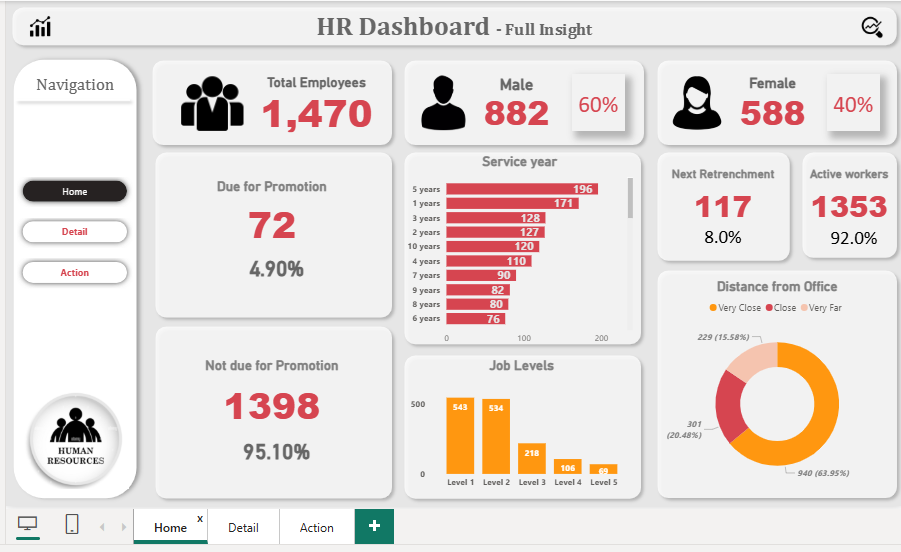

This screenshot's page, from the dashboard's own definition file:
{"tool":"powerbi","page":{"name":"Home","canvas":[1280,720],"ordinal":0},"visuals":[{"type":"shape","box":[0,72.3,197,647.7],"z":0},{"type":"shape","box":[204.1,455,355.7,263.6],"z":1000},{"type":"shape","box":[919.8,75.1,360,138.9],"z":2000},{"type":"card","title":"Not due for Promotion","fields":{"Values":["All Measures.Not due for Promotion"]},"box":[252.3,508,253.7,110.5],"z":3000},{"type":"card","fields":{"Values":["All Measures.% Not due"]},"box":[309,594.9,153.1,91.3],"z":4000},{"type":"shape","box":[204.1,206.9,355.7,253.7],"z":5000},{"type":"shape","box":[0,0,1279.8,72.3],"z":6000},{"type":"card","title":"Female","fields":{"Values":["All Measures.Female"]},"box":[1009.1,106.3,170.1,85],"z":7000},{"type":"card","title":"Due for Promotion","fields":{"Values":["All Measures.Due for promotion"]},"box":[252.3,252.3,253.7,106.3],"z":8000},{"type":"textbox","box":[0.2,8.5,1279.8,62.4],"z":9000},{"type":"image","box":[915.6,97.8,140.3,93.5],"z":10000},{"type":"card","fields":{"Values":["All Measures.% Due for promotion"]},"box":[309,335.9,153.1,87.9],"z":11000},{"type":"image","box":[24.1,15.6,48.2,41.1],"z":12000},{"type":"card","fields":{"Values":["All Measures.% female"]},"box":[1172.1,103.5,75.1,82.2],"z":13000},{"type":"image","box":[1211.8,17,48.2,41.1],"z":14000},{"type":"shape","box":[559.8,75.1,360,138.9],"z":15000},{"type":"card","title":"Male","fields":{"Values":["All Measures.Male"]},"box":[643,106.3,170.1,82.2],"z":16000},{"type":"image","box":[572.6,100.6,104.9,87.9],"z":17000},{"type":"card","fields":{"Values":["All Measures.% male"]},"box":[807.9,103.5,75.1,82.2],"z":18000},{"type":"shape","box":[199.8,75.1,360,138.9],"z":19000},{"type":"card","title":"Total Employees","fields":{"Values":["All Measures.Total Emp"]},"box":[348.7,103.5,189.9,87.9],"z":20000},{"type":"image","box":[197,90.7,195.6,99.2],"z":21000},{"type":"shape","box":[559.8,206.9,355.7,292],"z":22000},{"type":"barChart","title":"Service year","fields":{"Category":["Hr Data.Service year"],"Y":["All Measures.Total Emp"]},"box":[566.9,216.9,333.1,282],"z":23000},{"type":"shape","box":[559.8,496.1,355.7,222.5],"z":24000},{"type":"columnChart","title":"Job Levels","fields":{"Category":["Hr Data.Job Levels"],"Y":["All Measures.Total Emp"]},"box":[572.6,507.4,327.4,197],"z":25000},{"type":"shape","box":[919.8,206.9,206.9,172.9],"z":26000},{"type":"shape","box":[1126.8,206.9,153.1,168.7],"z":27000},{"type":"shape","box":[919.8,375.6,360,343],"z":28000},{"type":"card","title":"Active workers","fields":{"Values":["All Measures.On Service"]},"box":[1131,236.7,143.1,96.4],"z":29000},{"type":"card","fields":{"Values":["All Measures.% On Service"]},"box":[1156.5,304.7,107.7,63.8],"z":30000},{"type":"card","title":"Next Retrenchment","fields":{"Values":["All Measures.Retrenched"]},"box":[935.4,236.7,174.3,96.4],"z":31000},{"type":"card","fields":{"Values":["All Measures.% Retrenched"]},"box":[969.4,303.3,107.7,63.8],"z":32000},{"type":"donutChart","title":"Distance from Office","fields":{"Category":["Hr Data.Distance status"],"Y":["All Measures.Total Emp"]},"box":[935.4,395.4,328.8,309],"z":33000},{"type":"pageNavigator","box":[15.6,248,165.8,163],"z":34000},{"type":"textbox","box":[15.6,97.8,165.8,42.5],"z":35000},{"type":"shape","box":[4.3,112,181.4,59.5],"z":36000},{"type":"image","box":[18.4,542.8,161.6,161.6],"z":37000}]}

Visuals, with their boxes on the page's 1280x720 design canvas (x1, y1, x2, y2). These are canvas units, not pixel positions in the 901x552 screenshot, which may show the page scaled, cropped or inside an application window:
shape: BBox(0, 72, 197, 720)
shape: BBox(204, 455, 560, 719)
shape: BBox(920, 75, 1280, 214)
"Not due for Promotion" card: BBox(252, 508, 506, 618)
card - All Measures.% Not due: BBox(309, 595, 462, 686)
shape: BBox(204, 207, 560, 461)
shape: BBox(0, 0, 1280, 72)
"Female" card: BBox(1009, 106, 1179, 191)
"Due for Promotion" card: BBox(252, 252, 506, 359)
textbox: BBox(0, 8, 1280, 71)
image: BBox(916, 98, 1056, 191)
card - All Measures.% Due for promotion: BBox(309, 336, 462, 424)
image: BBox(24, 16, 72, 57)
card - All Measures.% female: BBox(1172, 104, 1247, 186)
image: BBox(1212, 17, 1260, 58)
shape: BBox(560, 75, 920, 214)
"Male" card: BBox(643, 106, 813, 188)
image: BBox(573, 101, 678, 188)
card - All Measures.% male: BBox(808, 104, 883, 186)
shape: BBox(200, 75, 560, 214)
"Total Employees" card: BBox(349, 104, 539, 191)
image: BBox(197, 91, 393, 190)
shape: BBox(560, 207, 916, 499)
"Service year" barChart: BBox(567, 217, 900, 499)
shape: BBox(560, 496, 916, 719)
"Job Levels" columnChart: BBox(573, 507, 900, 704)
shape: BBox(920, 207, 1127, 380)
shape: BBox(1127, 207, 1280, 376)
shape: BBox(920, 376, 1280, 719)
"Active workers" card: BBox(1131, 237, 1274, 333)
card - All Measures.% On Service: BBox(1156, 305, 1264, 368)
"Next Retrenchment" card: BBox(935, 237, 1110, 333)
card - All Measures.% Retrenched: BBox(969, 303, 1077, 367)
"Distance from Office" donutChart: BBox(935, 395, 1264, 704)
pageNavigator: BBox(16, 248, 181, 411)
textbox: BBox(16, 98, 181, 140)
shape: BBox(4, 112, 186, 172)
image: BBox(18, 543, 180, 704)
